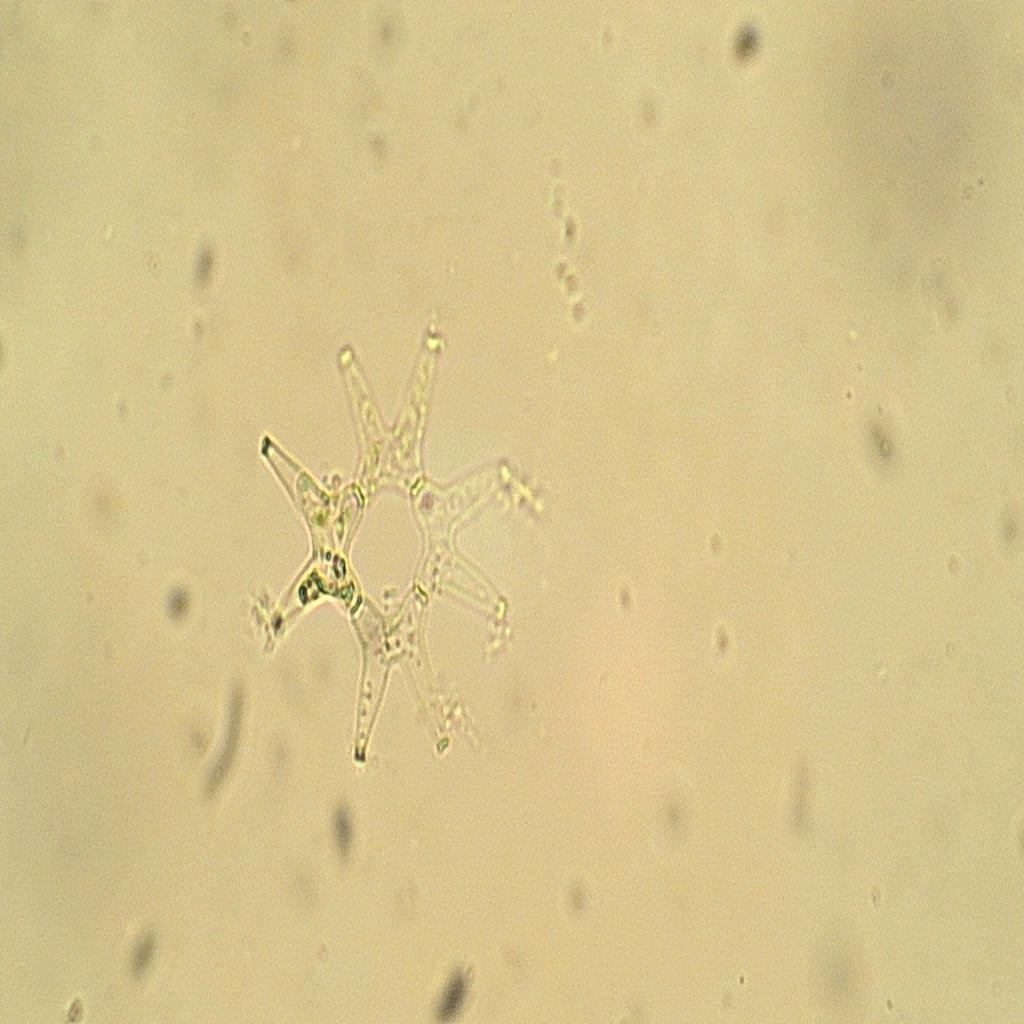Pediastrum_75TH: (228, 293, 553, 798)
